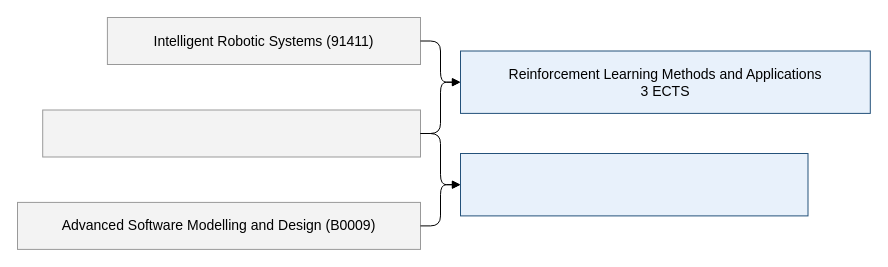
Some shapes in this 888 by 267 pixel diagram are drawn without their labels. The centre of each missing label's shape, as x and y in pixels:
Autonomous and Adaptive Systems M (92858): point 231,133
Multi-Agent Adaptation and Coordination 3 ECTS: point 634,184
